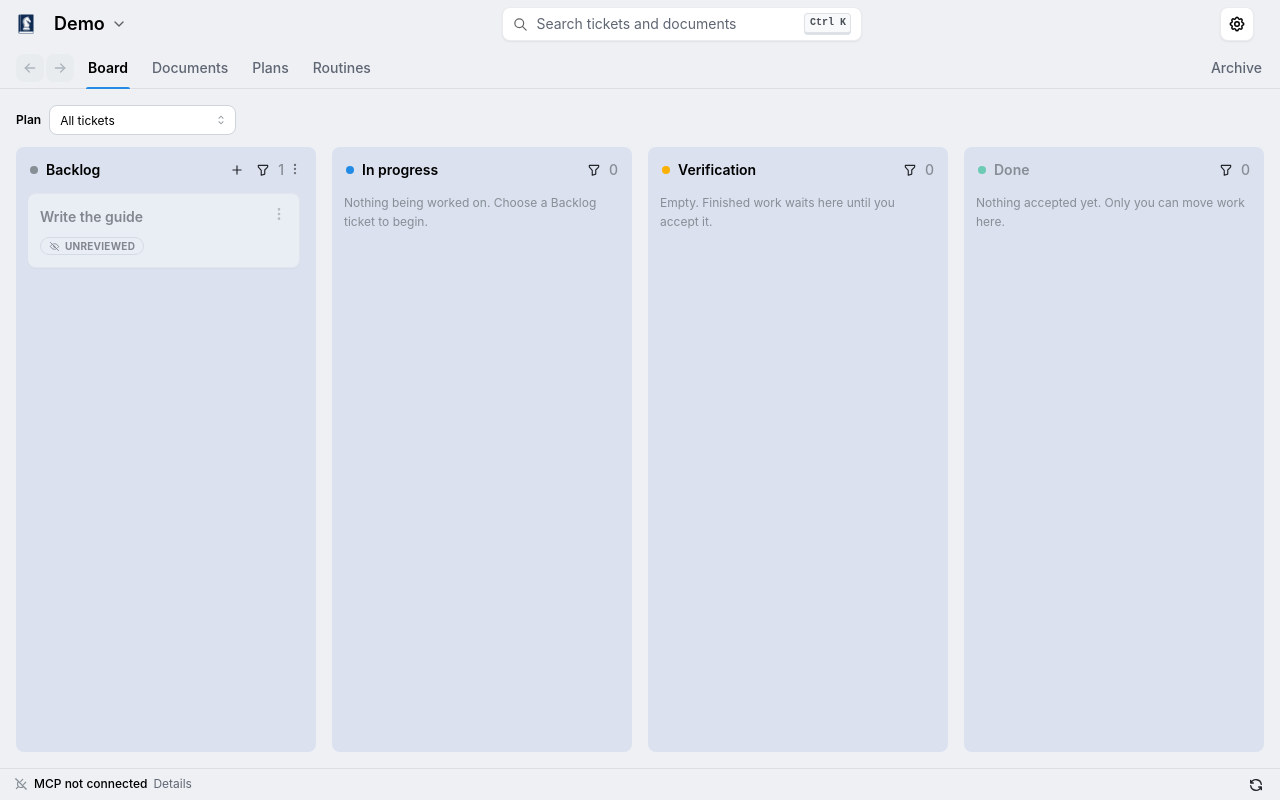
Scenario: places that are gone › skips a document that is no longer included, says so, and forgets it
Expected: the text "Write the guide" is shown, left=40, top=208, right=143, bottom=225
Click the tab "Documents": (190, 68) left=150, top=48, right=230, bottom=88
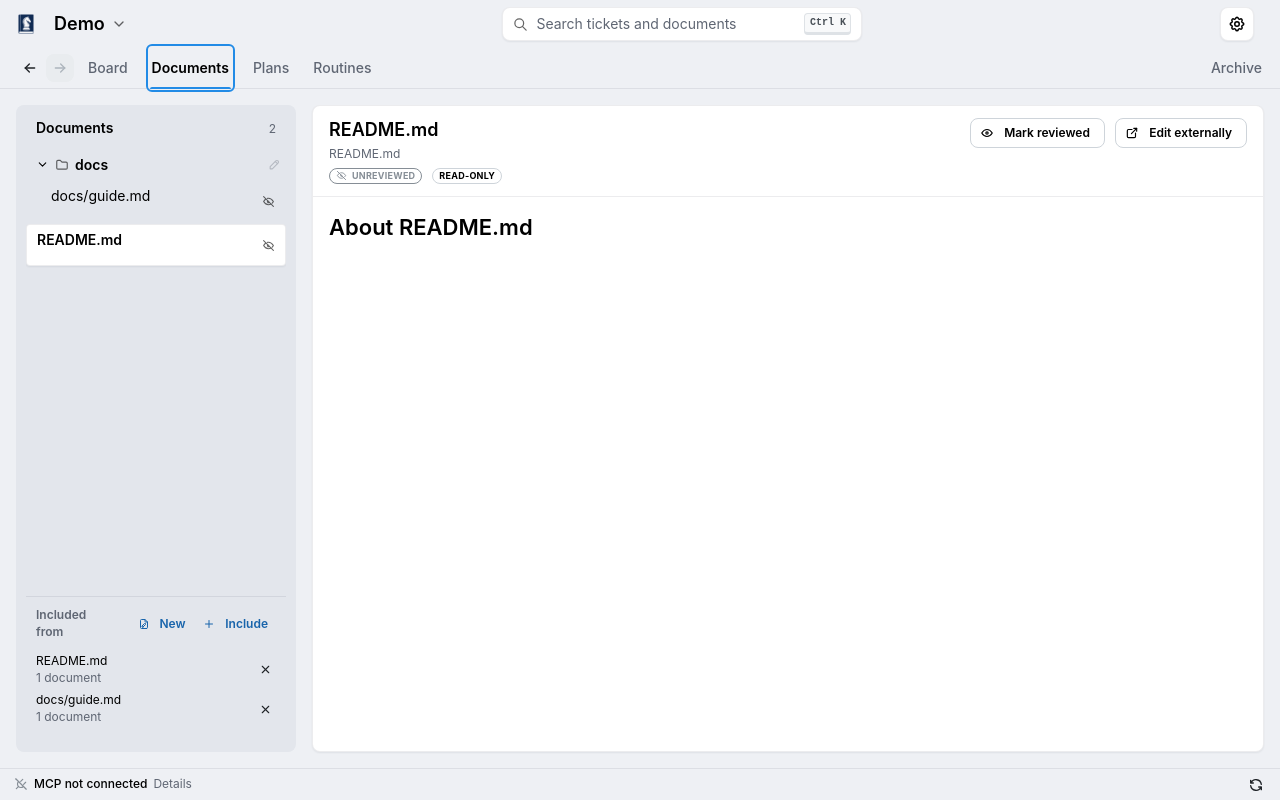
Click the button "docs/guide.md": (163, 201) left=40, top=180, right=286, bottom=222
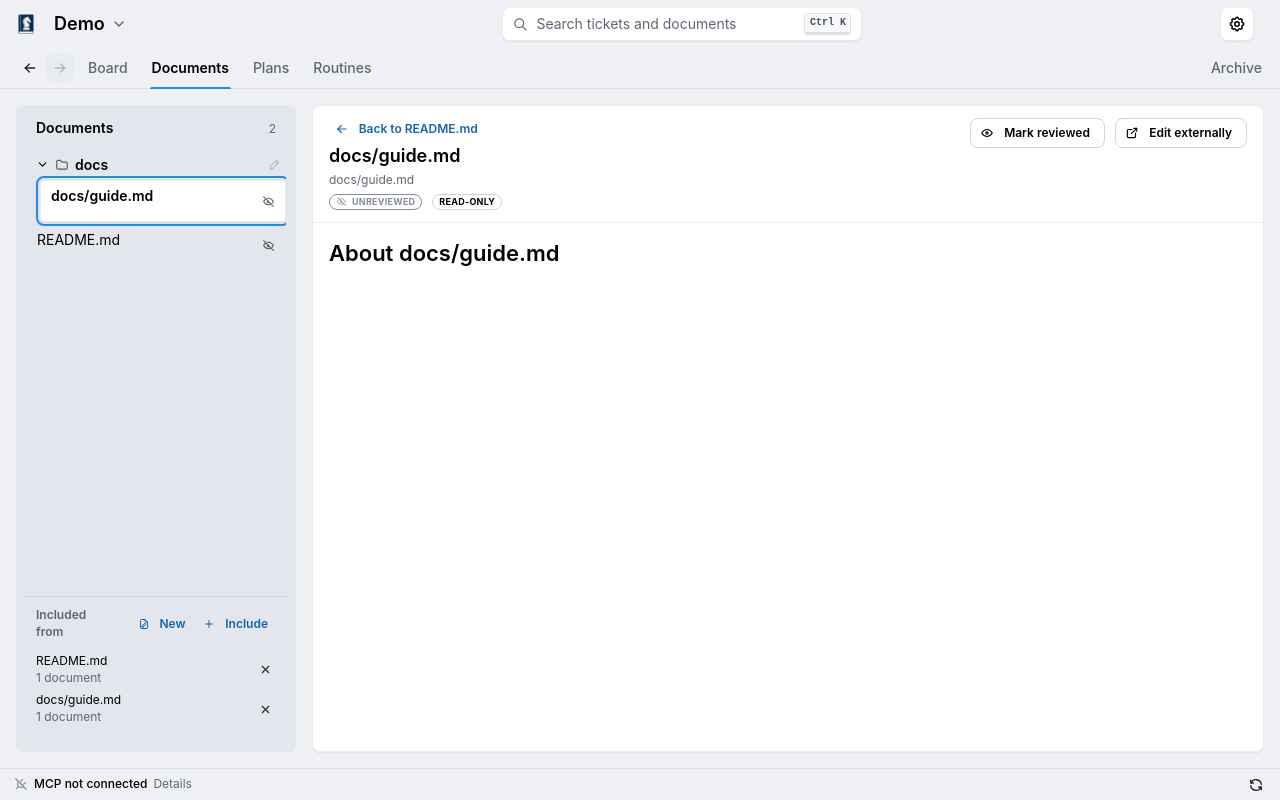
Click the tab "Board": (108, 68) left=86, top=48, right=130, bottom=88
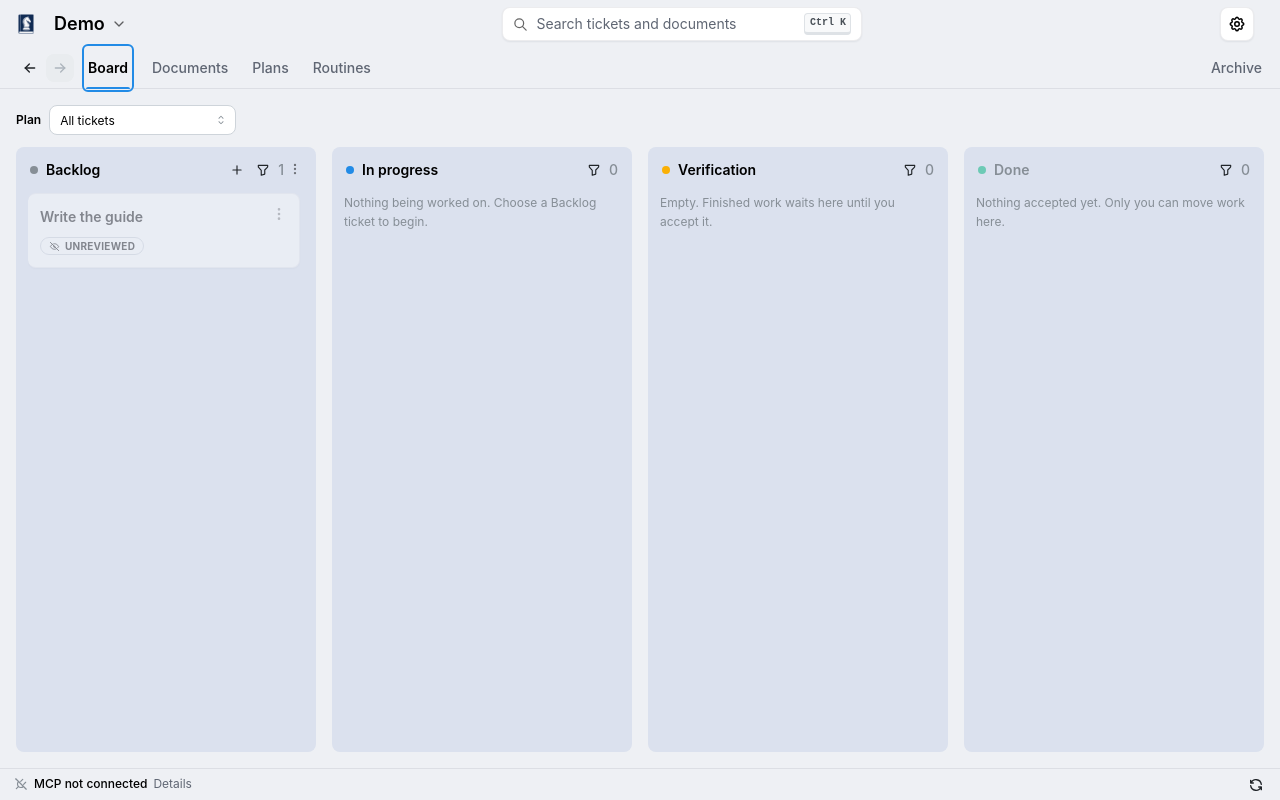
Click the button named "Back": (30, 68) left=16, top=54, right=44, bottom=82
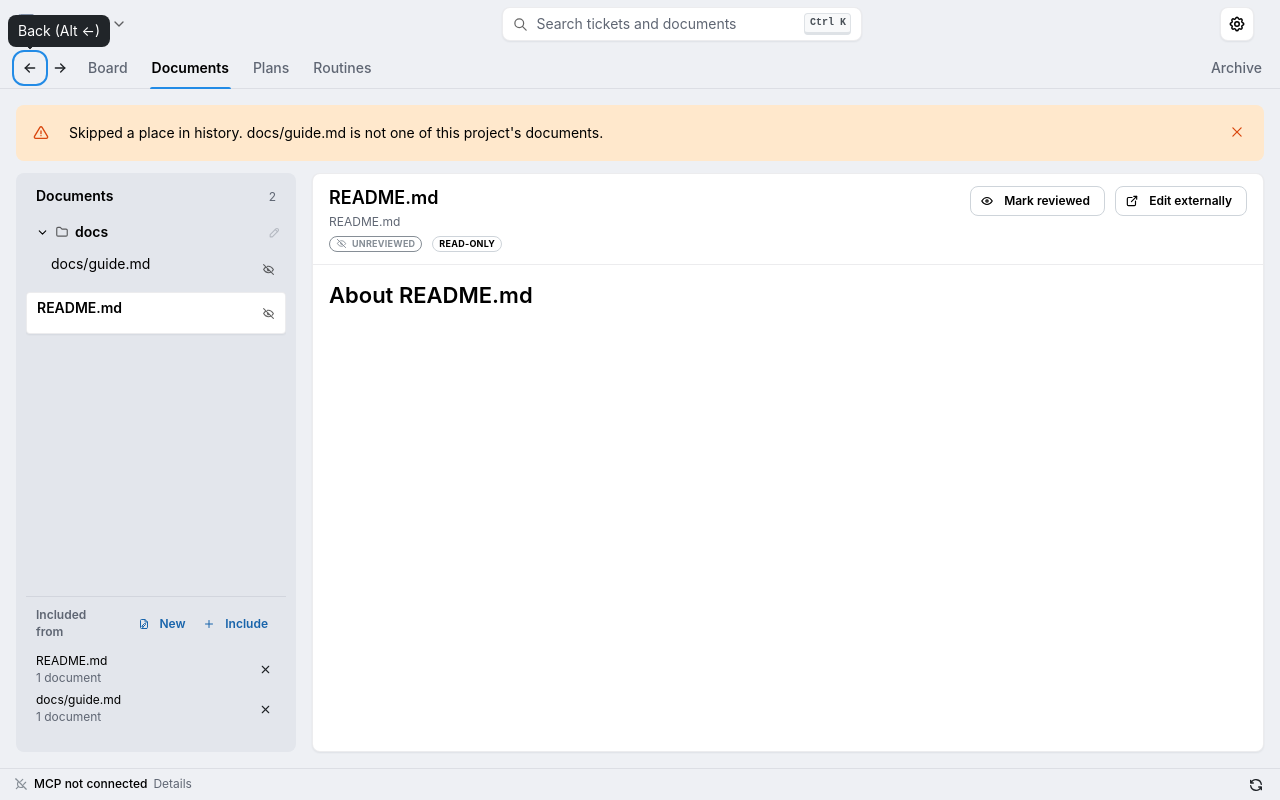
Now the text "Skipped a place in history. docs/guide.md is not one of this project's documents." is shown, box left=69, top=124, right=603, bottom=141
Click the button named "Forward": (60, 68) left=46, top=54, right=74, bottom=82
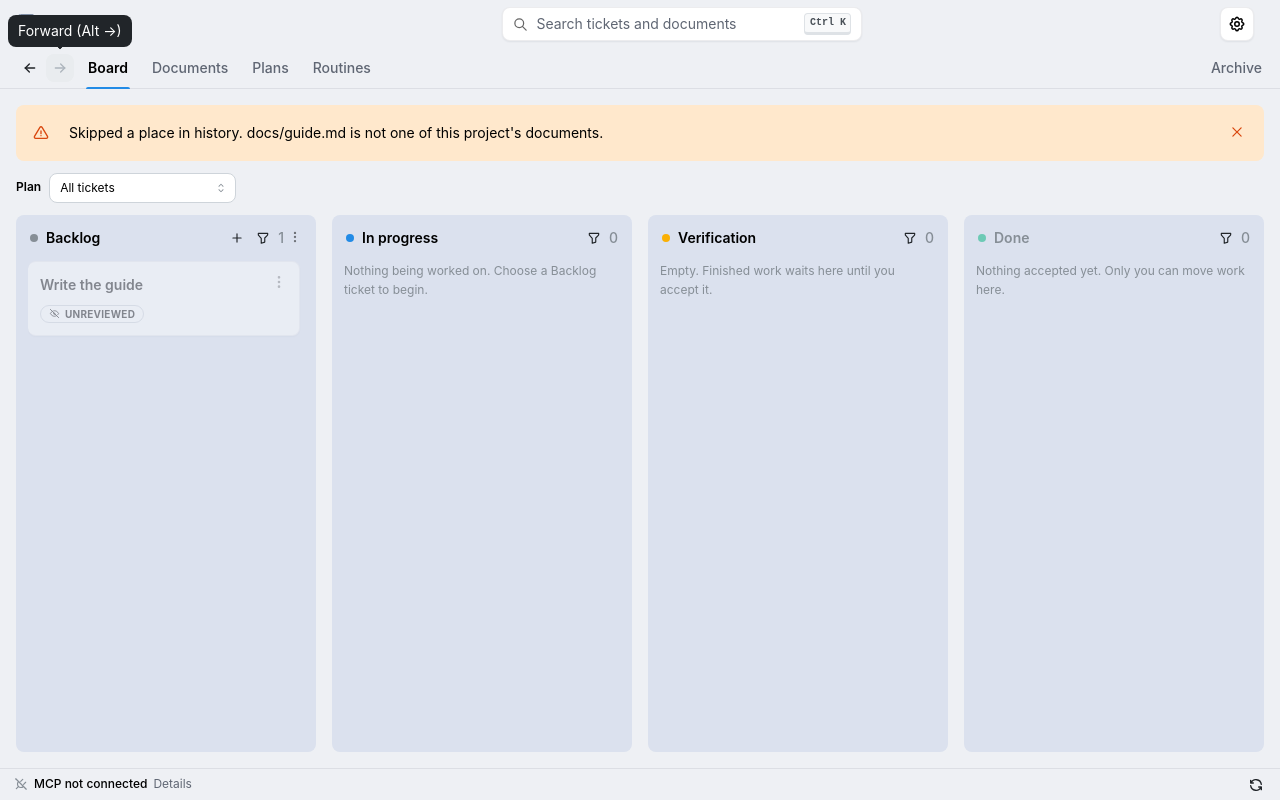
Now the text "Write the guide" is shown, box left=40, top=276, right=143, bottom=293
